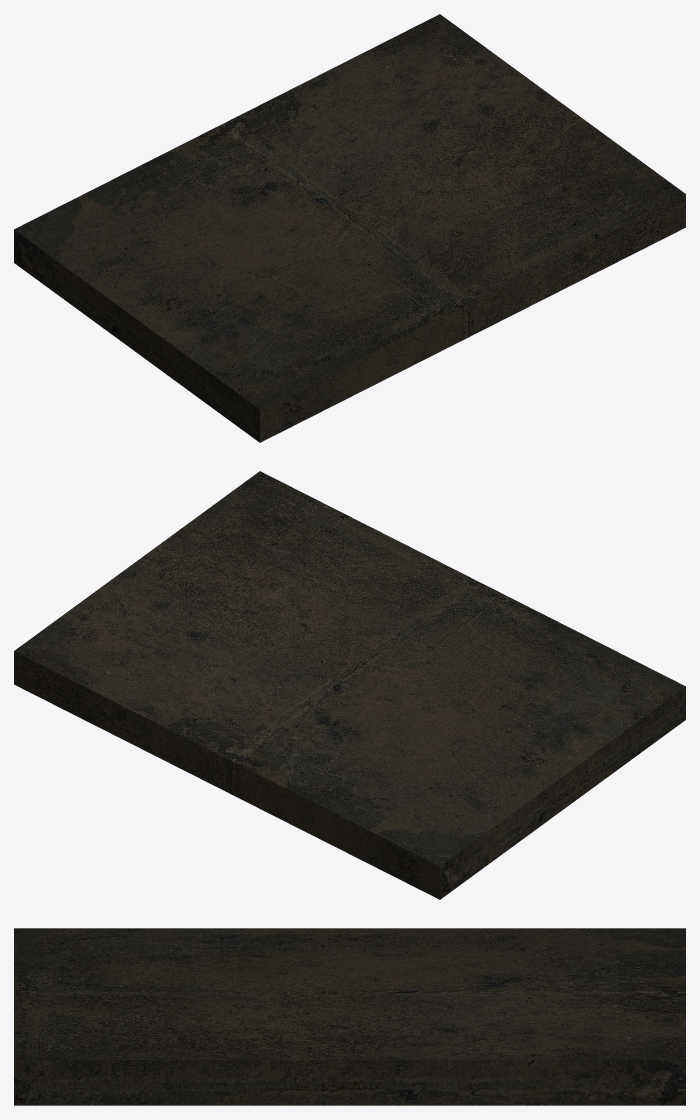
File: floor_ceiling_hs_1.glb
The picture shows the model from 3 angles, top to bottom: view 1: azimuth 30°, elevation 25°; view 2: azimuth 150°, elevation 25°; view 3: azimuth 270°, elevation 25°; orthographic projection. The views are drawn at different scales.
Visible parts, largest first — view 1: floor_ceiling_hs_1; view 2: floor_ceiling_hs_1; view 3: floor_ceiling_hs_1.
Part boxes in pixels (<box>): floor_ceiling_hs_1: <box>14,14,685,442</box>; floor_ceiling_hs_1: <box>14,471,685,899</box>; floor_ceiling_hs_1: <box>14,928,685,1105</box>.
Size of the model in its own units: 4 by 1.3 by 4.
1 material, 1 textured.
